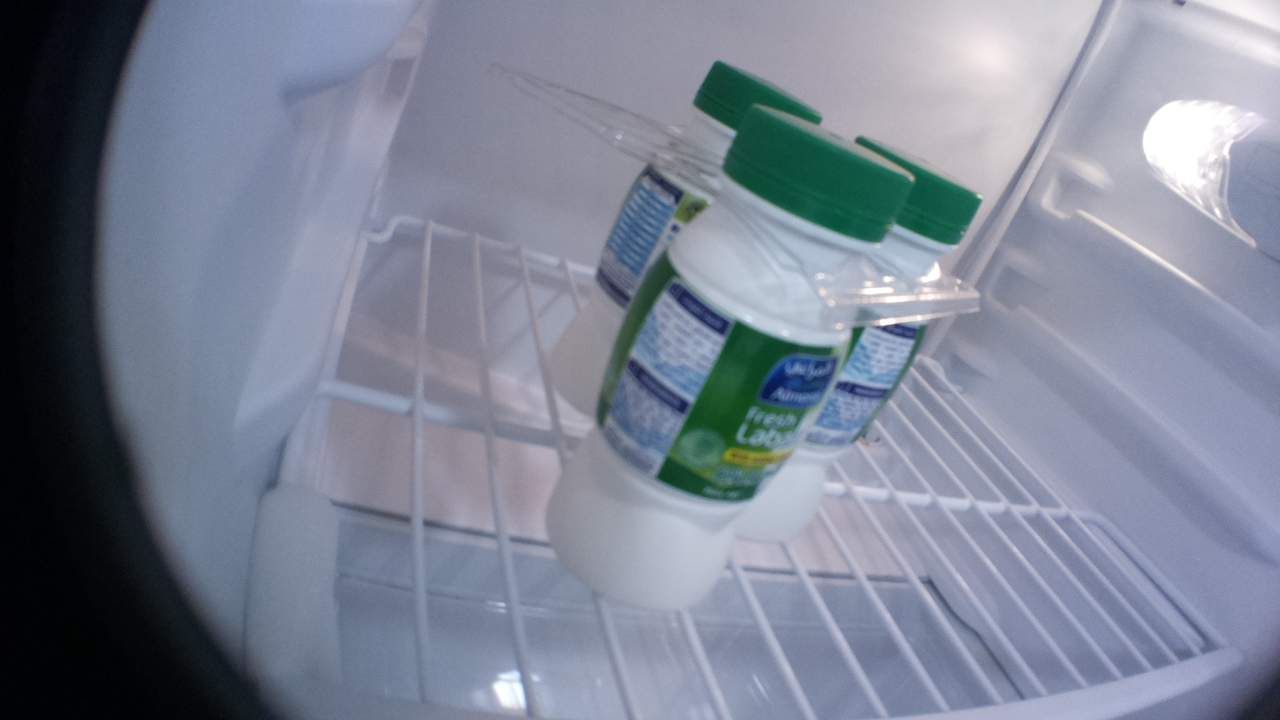laban: (548, 104, 916, 609), (548, 61, 823, 425), (741, 136, 981, 543)
